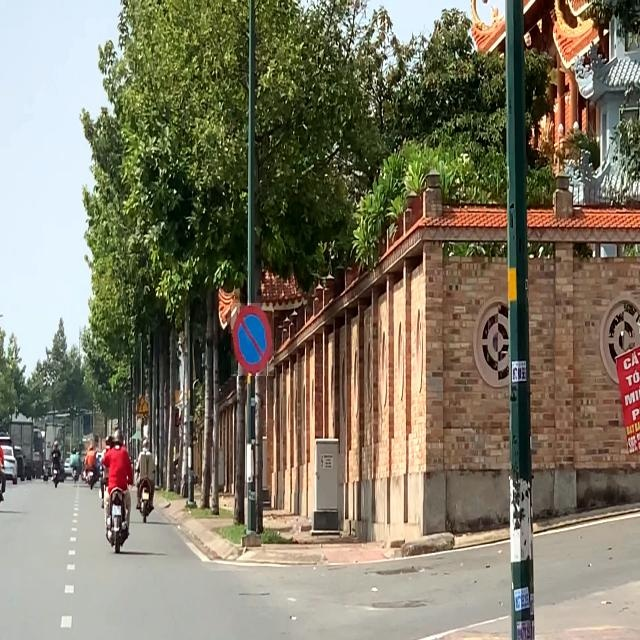bien_cam: (231, 303, 274, 376), (137, 396, 150, 418)
